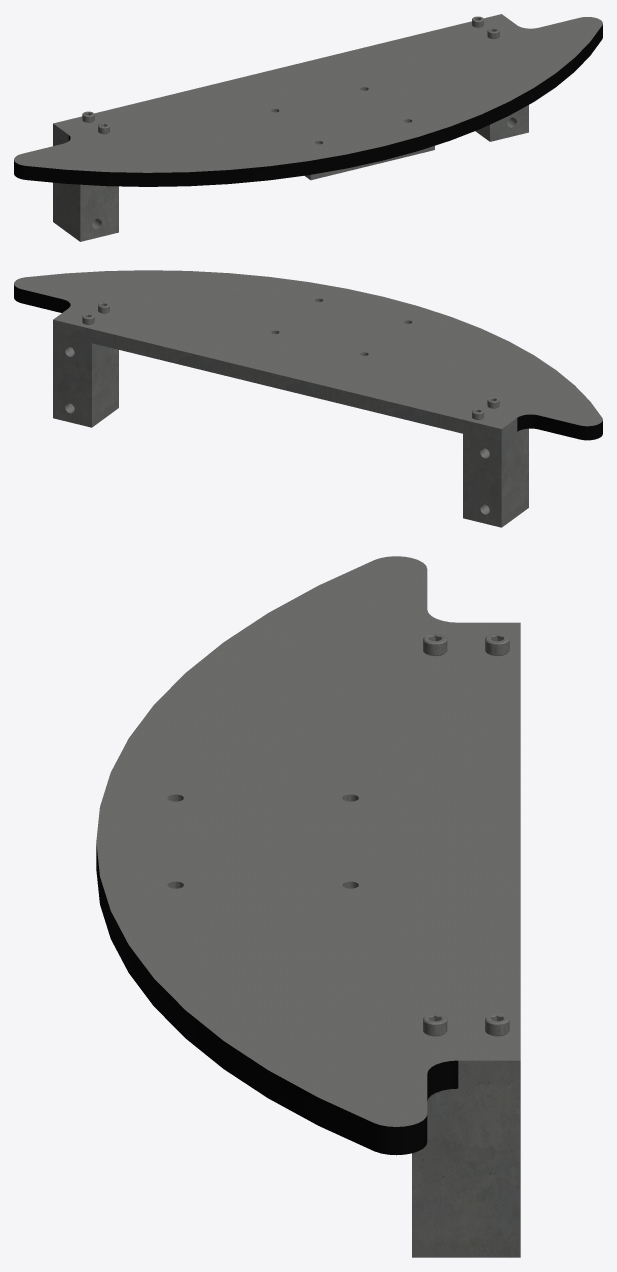
Rendered from caster_plate.dae.
3 renders of one model, top to bottom at view 1: azimuth 30°, elevation 25°; view 2: azimuth 150°, elevation 25°; view 3: azimuth 270°, elevation 25°, orthographic. The views are drawn at different scales.
Visible parts, largest first — view 1: _3DGeom_184_Defintion, _3DGeom_180_Defintion, SketchUp (×2); view 2: _3DGeom_184_Defintion, SketchUp, _3DGeom_180_Defintion (×3); view 3: _3DGeom_184_Defintion, SketchUp, _3DGeom_180_Defintion (×2).
Part boxes in pixels (left/top/right/bottom): _3DGeom_184_Defintion: left=14, top=14, right=602, bottom=172; _3DGeom_180_Defintion: left=14, top=24, right=602, bottom=186; SketchUp (×2): left=53, top=105, right=528, bottom=241; _3DGeom_184_Defintion: left=14, top=270, right=602, bottom=428; SketchUp: left=53, top=319, right=528, bottom=527; _3DGeom_180_Defintion (×3): left=14, top=284, right=602, bottom=440; _3DGeom_184_Defintion: left=96, top=556, right=520, bottom=1126; SketchUp: left=412, top=1060, right=520, bottom=1257; _3DGeom_180_Defintion (×2): left=96, top=843, right=458, bottom=1155.
Bounding box in the file's own units: 21.72 × 6.82 × 3.74.
Materials: 4 (2 with a texture image).
